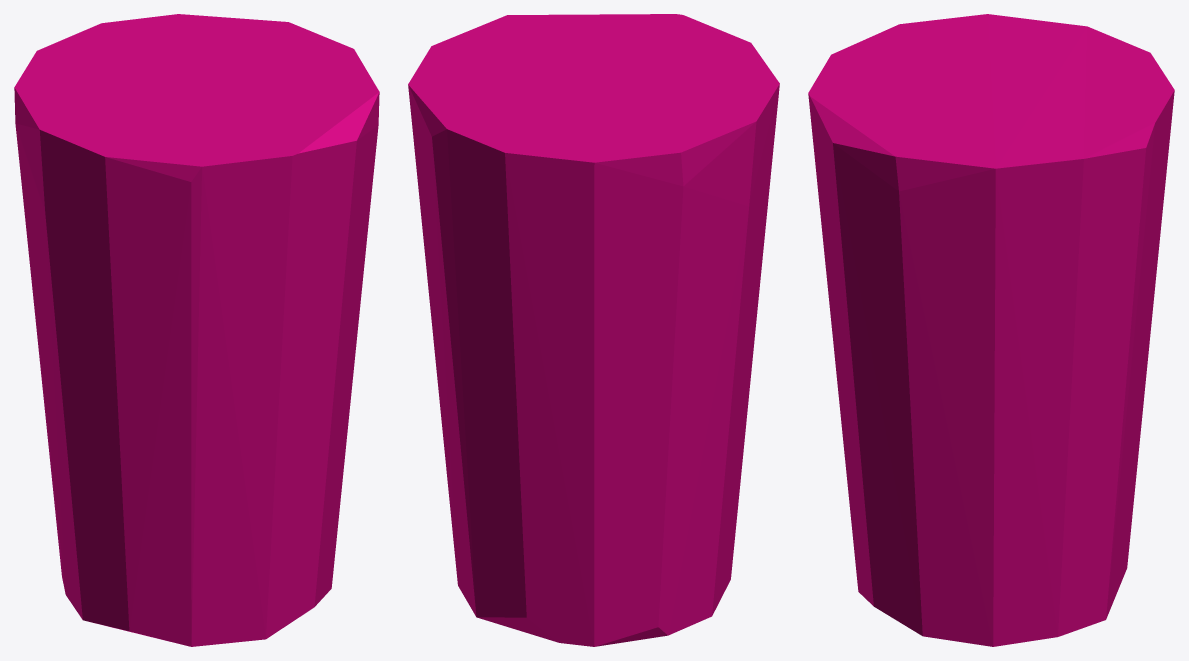
The model's file is coffee_convex_piece_032.obj.
3 views of the same model, side by side, from view 1: azimuth 30°, elevation 25°; view 2: azimuth 150°, elevation 25°; view 3: azimuth 270°, elevation 25° (orthographic).
Bounding box in the file's own units: 0.000847 × 0.00128 × 0.000848.
